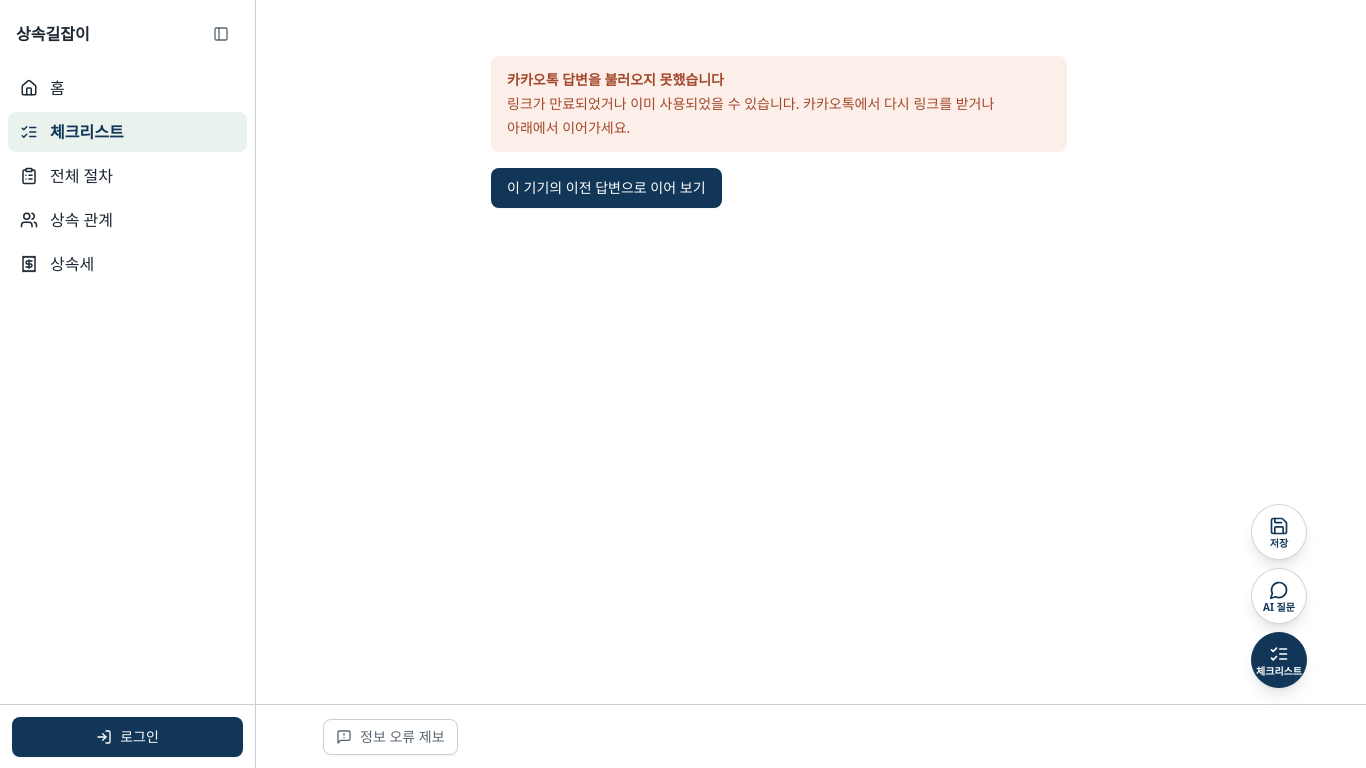
핸드오프 실패 안내 (7-2-2) › 이 기기에 이전 답변이 있으면 그 답변으로 이어 볼 수 있다
This screenshot has width=1366, height=768.
What coordinates should you click on to do the following:
click the button "이 기기의 이전 답변으로 이어 보기"
I would click on:
 (606, 188)
Its box is [491, 168, 722, 208].
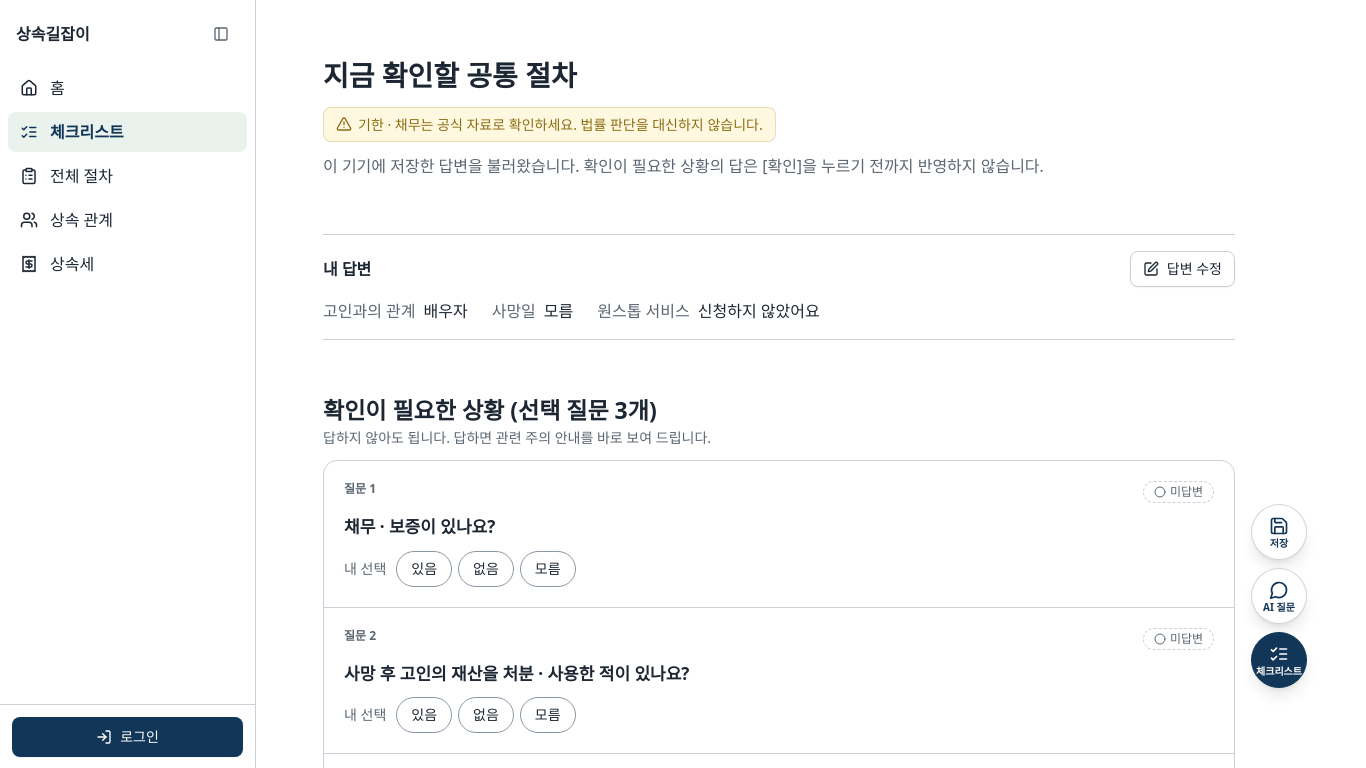
expect the heading "지금 확인할 공통 절차" is shown: met, box [323, 56, 577, 94]
expect the text "카카오톡 답변을 불러오지 못했습니다" is gone: met
